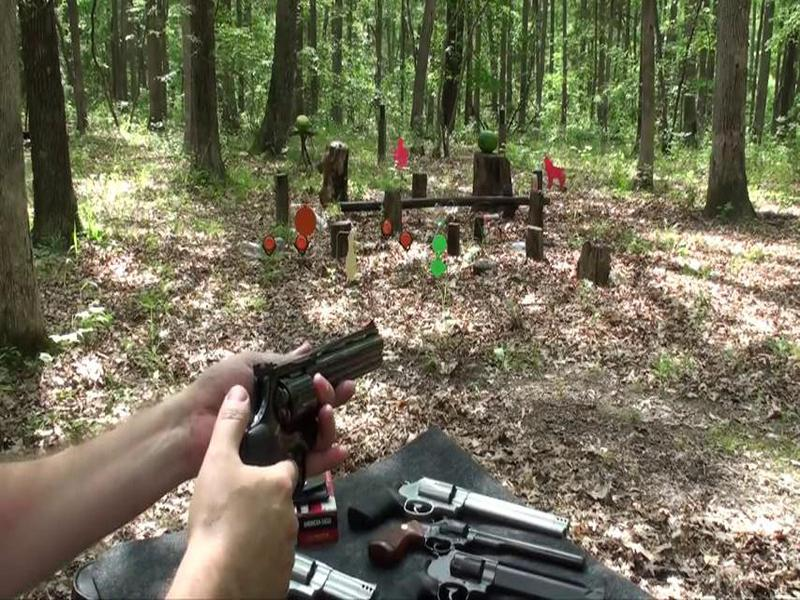Revolver: (231, 293, 388, 538)
